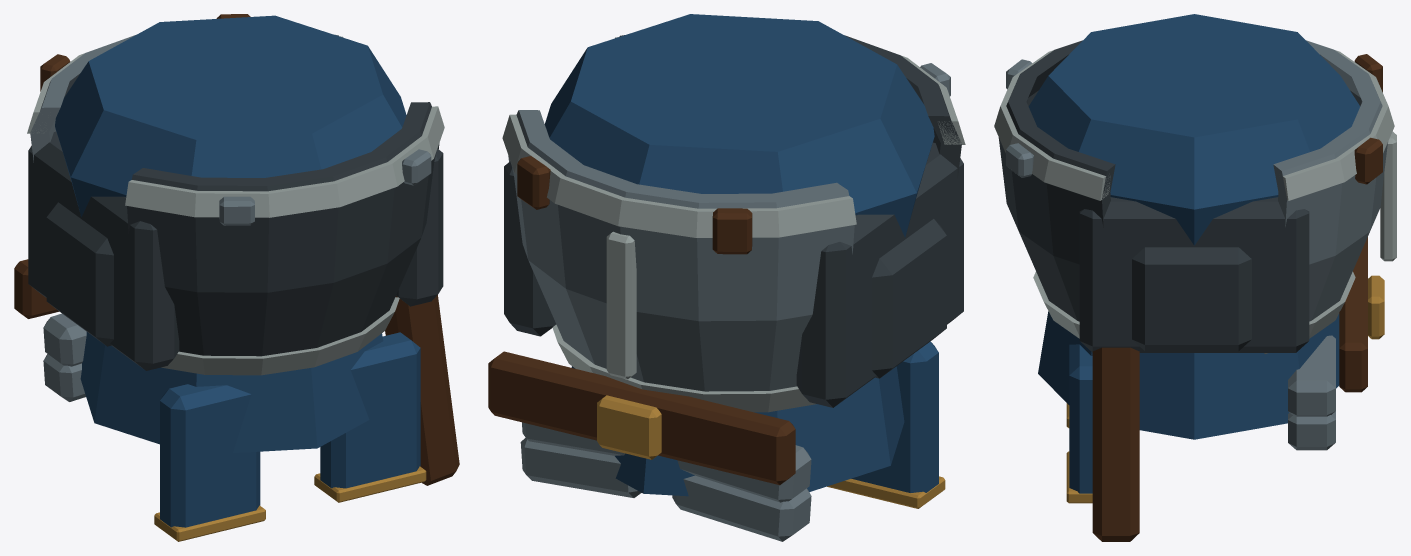
File: Body.glb
The picture shows the model from 3 angles, left to right: view 1: azimuth 30°, elevation 25°; view 2: azimuth 150°, elevation 25°; view 3: azimuth 270°, elevation 25°; orthographic projection. The views are drawn at different scales.
Visible parts, largest first — view 1: Sculpture; view 2: Sculpture; view 3: Sculpture.
Boxes of the visible parts, x1,y1,x2,y2 form: Sculpture: [14, 14, 459, 541]; Sculpture: [488, 14, 965, 541]; Sculpture: [994, 14, 1396, 541].
Bounding box in the file's own units: 0.7253 × 0.8265 × 0.772.
